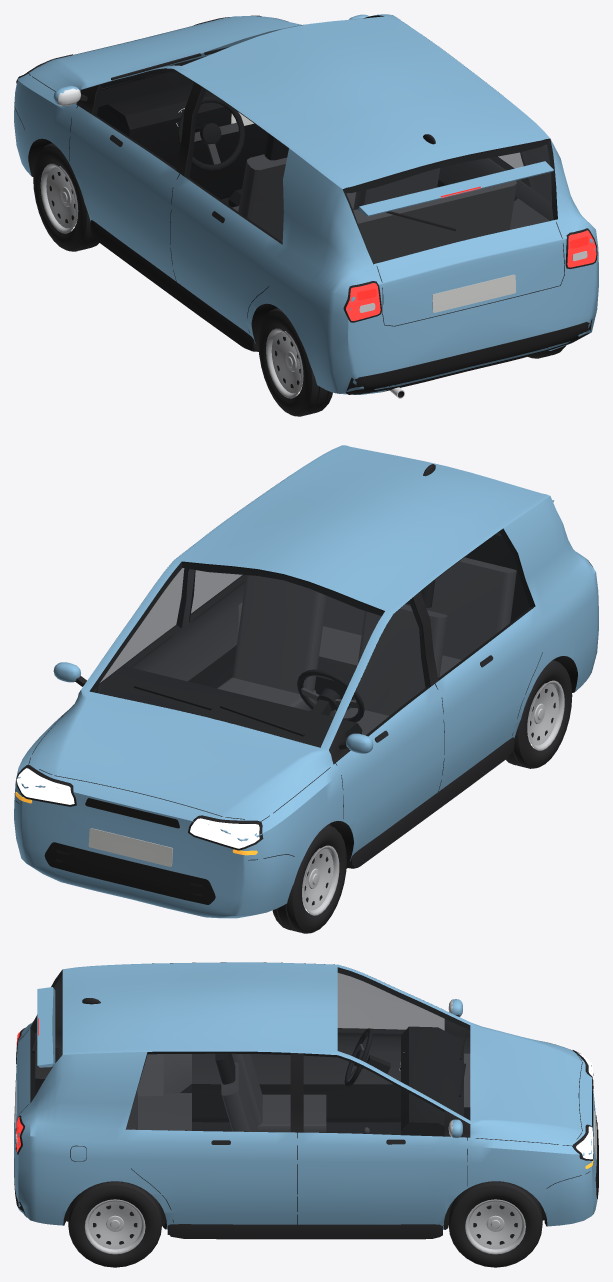
File: hatch_small.glb
The picture shows the model from 3 angles, top to bottom: view 1: azimuth 30°, elevation 25°; view 2: azimuth 150°, elevation 25°; view 3: azimuth 270°, elevation 25°; orthographic projection. The views are drawn at different scales.
Parts seen in each view (by area): view 1: Body, Glass, Interior, Wheel_RL, Wheel_FL, SteeringWheel, Lights_Tail; view 2: Body, Glass, Interior, Wheel_FL, Wheel_RL, Lights_Head, SteeringWheel; view 3: Body, Glass, Interior, Wheel_RR, Wheel_FR, SteeringWheel, Lights_Head.
Part boxes in pixels (box(x1,y1,x2,y2)): Body: box(14, 14, 598, 398); Glass: box(93, 17, 556, 263); Interior: box(97, 83, 516, 264); Wheel_RL: box(258, 308, 332, 416); Wheel_FL: box(33, 143, 99, 251); SteeringWheel: box(177, 96, 244, 171); Lights_Tail: box(346, 230, 596, 320); Body: box(14, 445, 598, 918); Glass: box(90, 529, 533, 750); Interior: box(100, 557, 516, 848); Wheel_FL: box(272, 825, 346, 933); Wheel_RL: box(506, 660, 572, 768); Lights_Head: box(16, 768, 259, 848); SteeringWheel: box(297, 669, 364, 722); Body: box(14, 962, 598, 1239); Glass: box(31, 968, 469, 1136); Interior: box(126, 1026, 463, 1225); Wheel_RR: box(68, 1181, 161, 1267); Wheel_FR: box(448, 1181, 542, 1267); SteeringWheel: box(344, 1028, 372, 1087); Lights_Head: box(576, 1052, 593, 1159).
Bounding box in the file's own units: 1.91 × 1.5 × 3.61.
